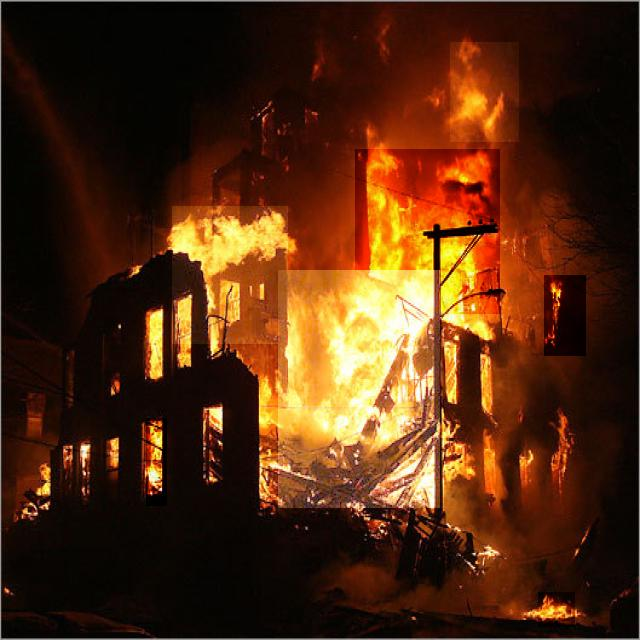Fire: (278, 270, 440, 508), (355, 149, 500, 314), (172, 206, 288, 344), (450, 42, 519, 142), (544, 275, 586, 356), (140, 310, 170, 386), (146, 418, 167, 506), (538, 592, 575, 627)
